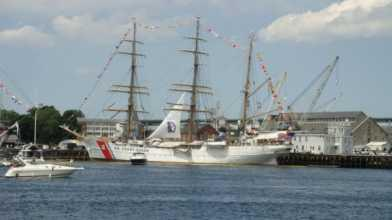fanchuan: (74, 19, 299, 167)
otherboat: (4, 148, 80, 176)
